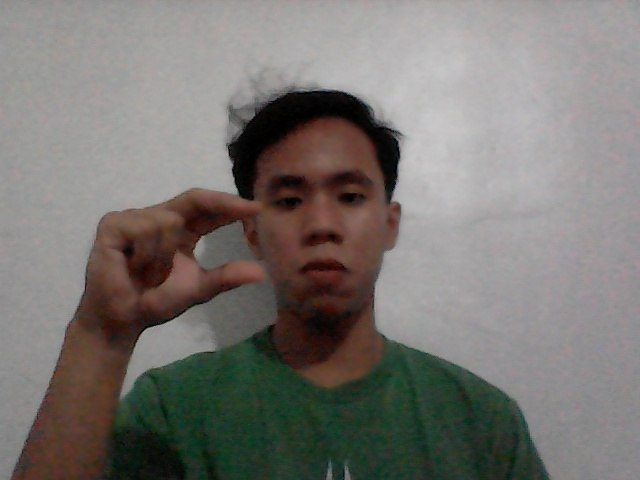No: (71, 163, 277, 349)
